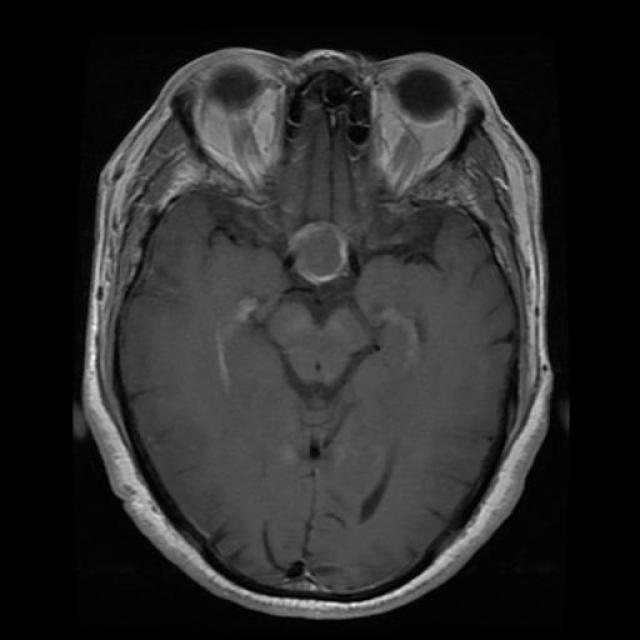pituitary: (249, 176, 378, 312)
